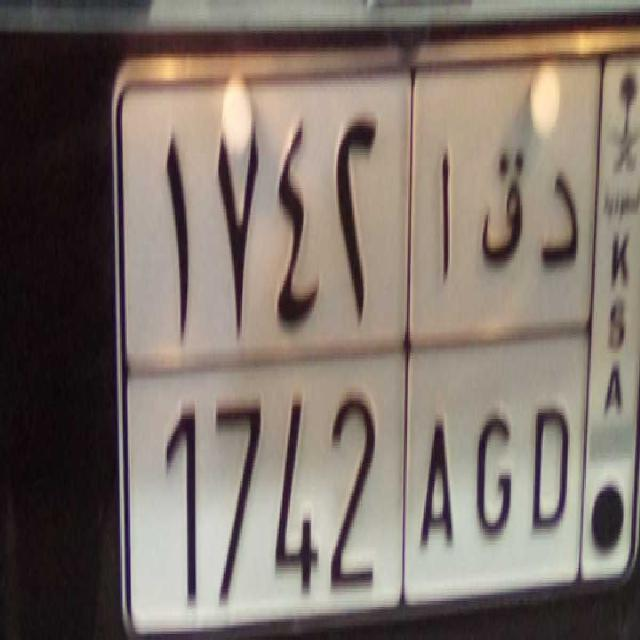license_plate: (138, 344, 580, 640)
